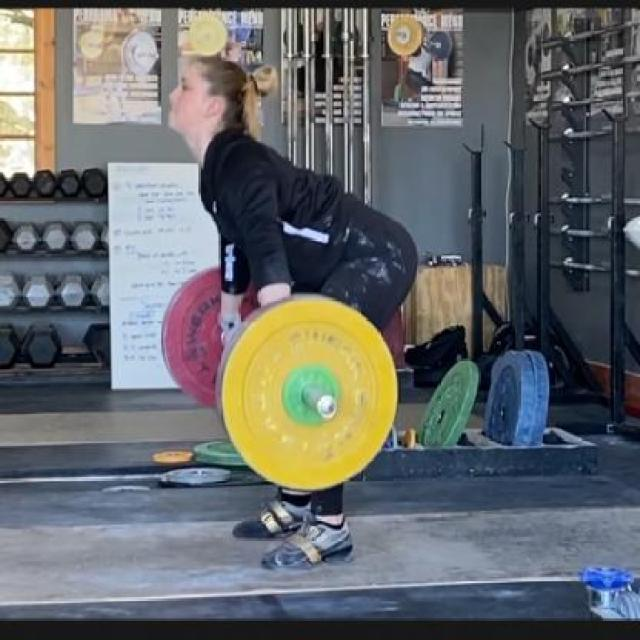barbell: (212, 290, 405, 503)
